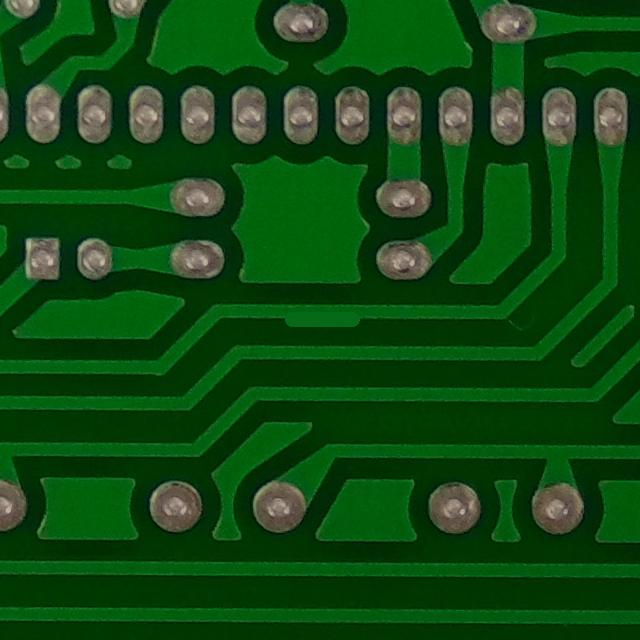spur: (265, 295, 376, 346)
